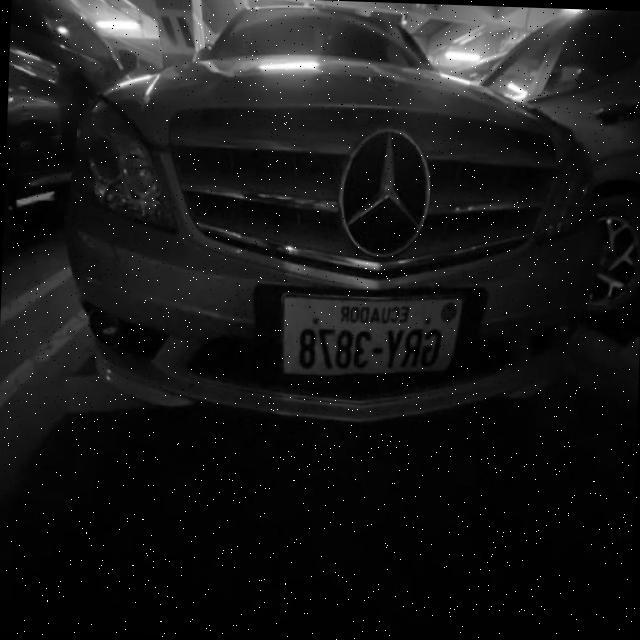Placa: (277, 292, 466, 375)
